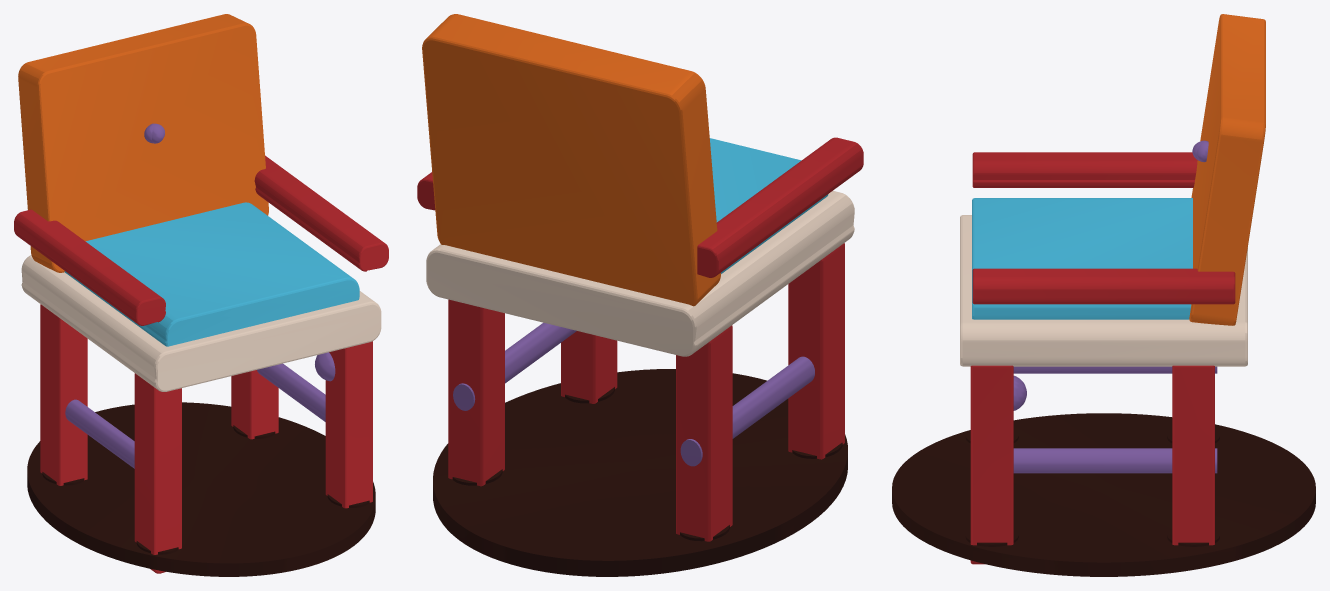
File: 0958_农业科技图鉴_太阳能诱虫灯.glb
The picture shows the model from 3 angles, left to right: view 1: azimuth 30°, elevation 25°; view 2: azimuth 150°, elevation 25°; view 3: azimuth 270°, elevation 25°; orthographic projection. The views are drawn at different scales.
Parts seen in each view (by area): view 1: card_0958; view 2: card_0958; view 3: card_0958.
Part boxes in pixels (x1,y1,x2,y2): card_0958: (14,14,388,576); card_0958: (417,14,863,576); card_0958: (892,14,1315,576).
Bounding box in the file's own units: 0.7217 × 1 × 0.8657.
